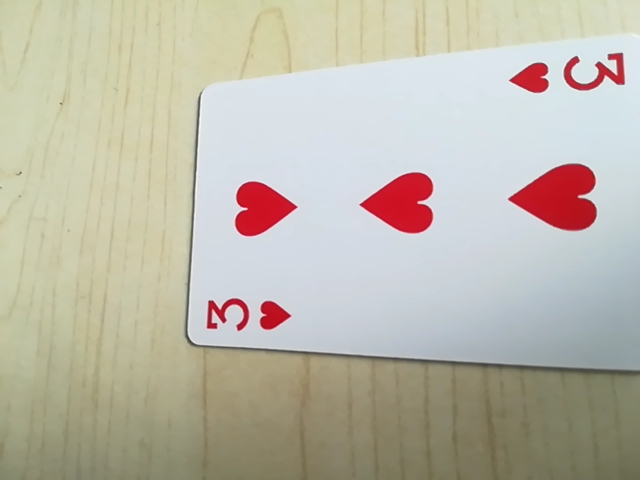hx 3: (507, 47, 634, 104), (199, 288, 296, 341)
